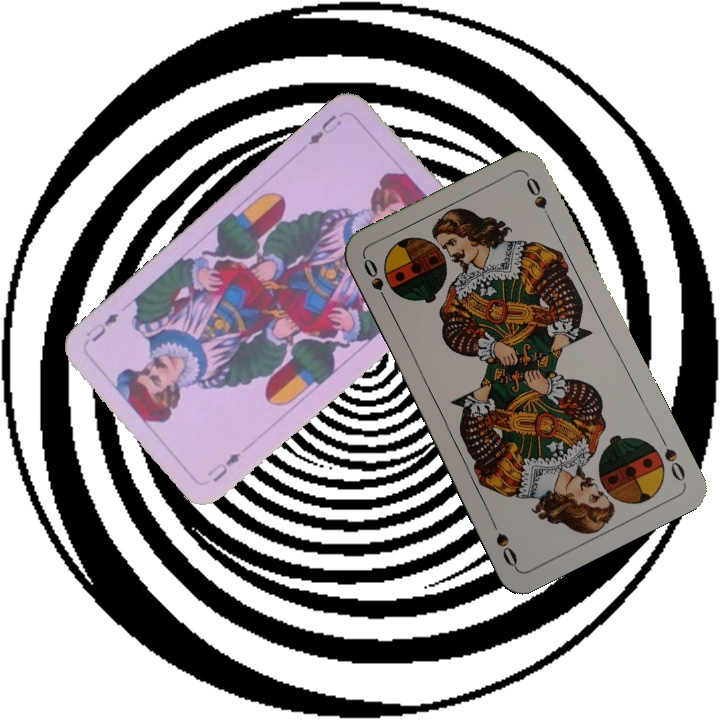EU: (304, 110, 344, 148), (203, 448, 244, 485)
SO: (359, 254, 393, 310), (655, 430, 688, 485)
